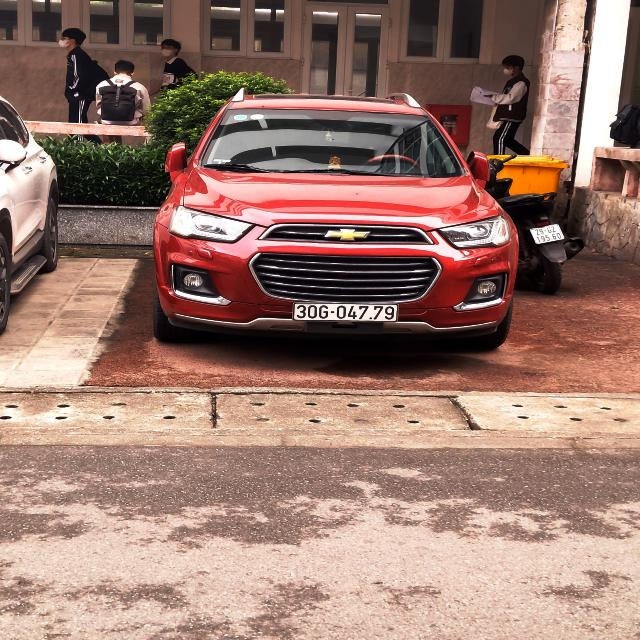license_plate: (295, 304, 400, 323)
